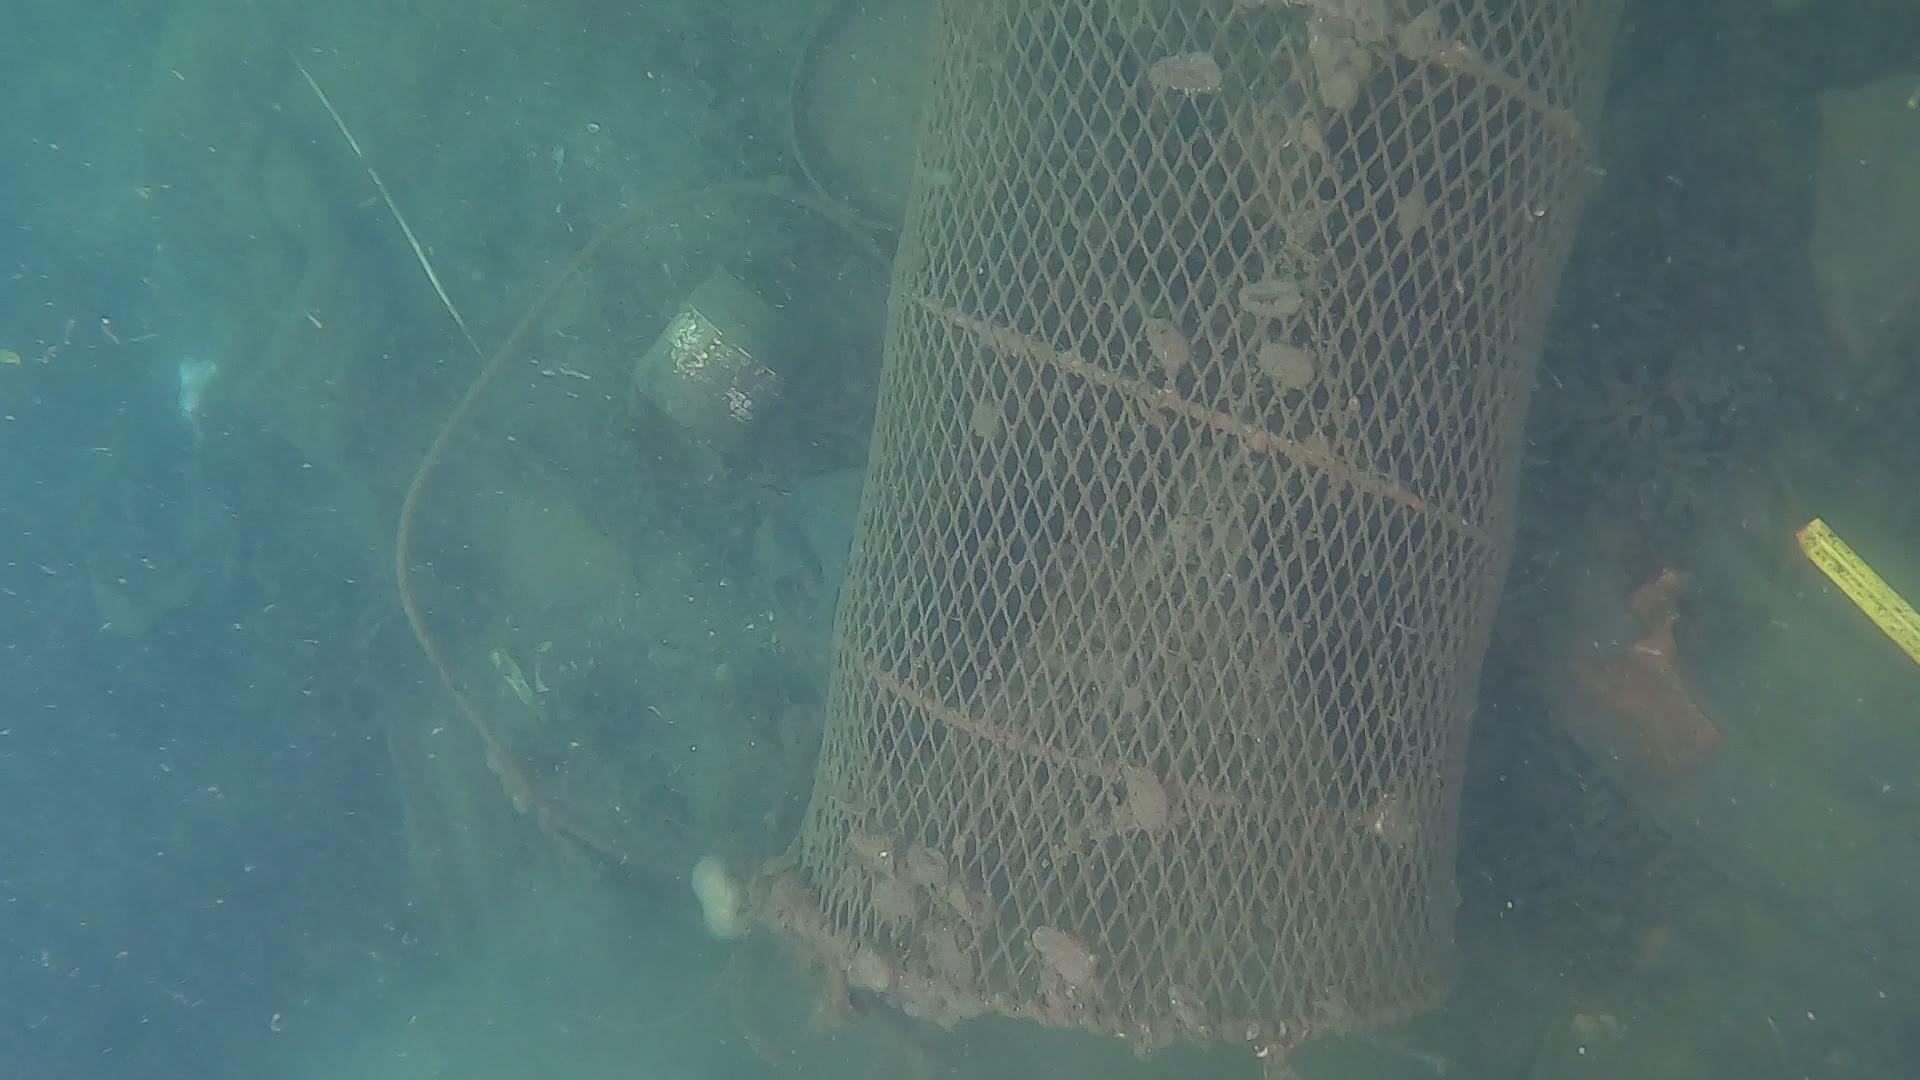spring fish trap: (760, 0, 1625, 1054)
